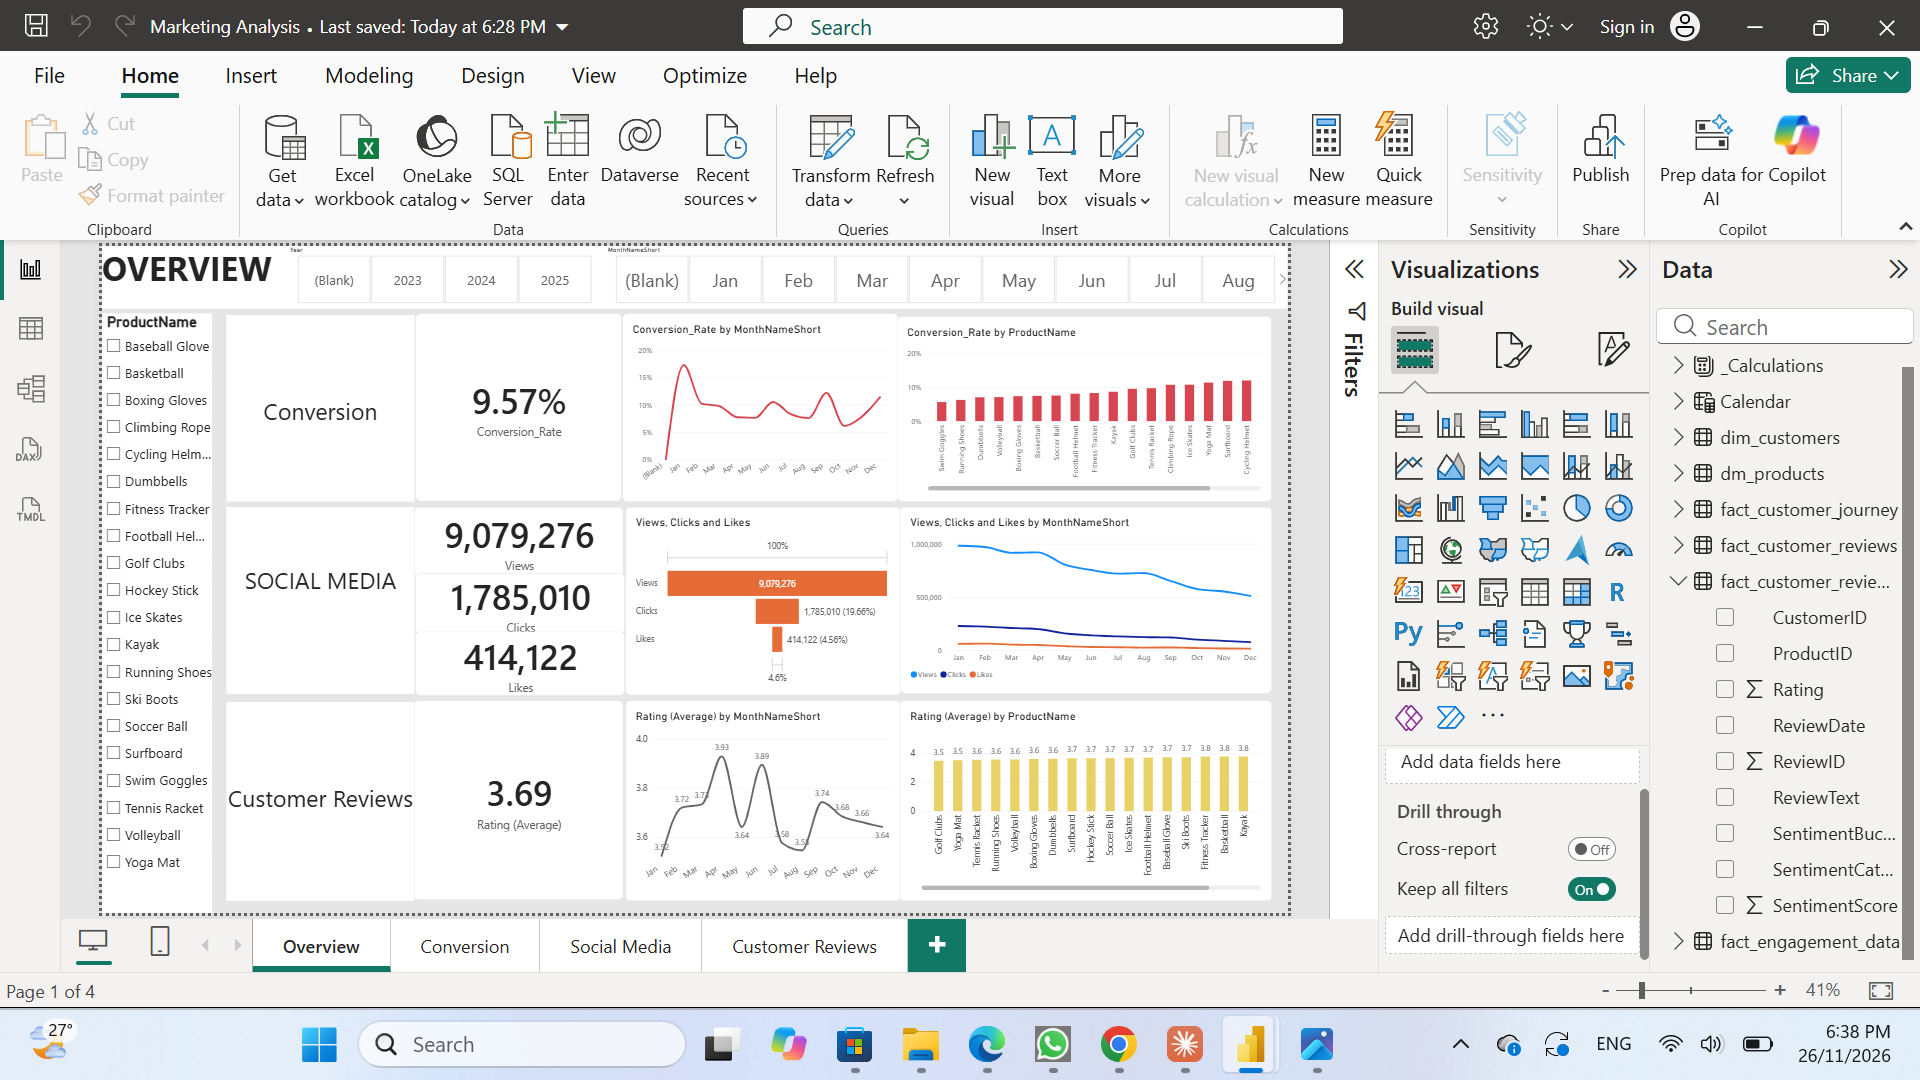

Layout of this report page (visuals, bound fields, positions):
{"tool":"powerbi","page":{"name":"Overview","canvas":[1920,1080],"ordinal":0},"visuals":[{"type":"textbox","box":[0,0,1919.2,101.5],"z":0},{"type":"slicer","fields":{"Values":["dm_products.ProductName"]},"box":[0,109,178.3,970.7],"z":1000},{"type":"textbox","box":[178.3,624,237.7,227.8],"z":2000},{"type":"textbox","box":[200.6,111.4,304.6,302.1],"z":3000},{"type":"textbox","box":[200.6,422.6,304.6,302.9],"z":4000},{"type":"textbox","box":[505.2,109,260,309.5],"z":5000},{"type":"textbox","box":[200.6,738,304.6,321.9],"z":6000},{"type":"cardVisual","fields":{"Data":["_Calculations.Conversion_Rate"]},"box":[507.7,109,334.3,304.6],"z":7000},{"type":"cardVisual","fields":{"Data":["_Calculations.Views"]},"box":[505.2,421.8,339.3,113.1],"z":8000},{"type":"cardVisual","fields":{"Data":["_Calculations.Clicks"]},"box":[507.7,528.3,339.3,99.9],"z":9000},{"type":"cardVisual","fields":{"Data":["_Calculations.LIKES"]},"box":[506.8,624.9,339.3,104.8],"z":10000},{"type":"cardVisual","fields":{"Data":["_Calculations.Rating (Average)"]},"box":[506,735.5,339.3,323.6],"z":11000},{"type":"slicer","fields":{"Values":["Calendar.Year"]},"box":[297.2,0,515.1,94.1],"z":12000},{"type":"slicer","fields":{"Values":["Calendar.MonthNameShort"]},"box":[812.2,0,1106.9,94.1],"z":13000},{"type":"lineChart","fields":{"Category":["Calendar.MonthNameShort"],"Y":["_Calculations.Conversion_Rate"]},"box":[842,109,445.7,304.6],"z":14000},{"type":"columnChart","fields":{"Category":["dm_products.ProductName"],"Y":["_Calculations.Conversion_Rate"]},"box":[1287.7,113.9,606.7,299.6],"z":15000},{"type":"funnel","fields":{"Y":["_Calculations.Views","_Calculations.Clicks","_Calculations.LIKES"]},"box":[846.9,423.5,445.7,304.6],"z":16000},{"type":"lineChart","fields":{"Category":["Calendar.MonthNameShort"],"Y":["_Calculations.Views","_Calculations.Clicks","_Calculations.LIKES"]},"box":[1292.7,423.5,601.8,302.1],"z":17000},{"type":"lineChart","fields":{"Category":["Calendar.MonthNameShort"],"Y":["_Calculations.Rating (Average)"]},"box":[846.9,735.5,445.7,324.4],"z":18000},{"type":"columnChart","fields":{"Category":["dm_products.ProductName"],"Y":["_Calculations.Rating (Average)"]},"box":[1292.7,735.5,601.8,324.4],"z":19000}]}

Visuals, with their boxes on the page's 1920x1080 design canvas (x1, y1, x2, y2). These are canvas units, not pixel positions in the 1920x1080 screenshot, which may show the page scaled, cropped or inside an application window:
textbox: bbox=(0, 0, 1919, 102)
slicer - dm_products.ProductName: bbox=(0, 109, 178, 1080)
textbox: bbox=(178, 624, 416, 852)
textbox: bbox=(201, 111, 505, 414)
textbox: bbox=(201, 423, 505, 726)
textbox: bbox=(505, 109, 765, 418)
textbox: bbox=(201, 738, 505, 1060)
cardVisual - _Calculations.Conversion_Rate: bbox=(508, 109, 842, 414)
cardVisual - _Calculations.Views: bbox=(505, 422, 844, 535)
cardVisual - _Calculations.Clicks: bbox=(508, 528, 847, 628)
cardVisual - _Calculations.LIKES: bbox=(507, 625, 846, 730)
cardVisual - _Calculations.Rating (Average): bbox=(506, 736, 845, 1059)
slicer - Calendar.Year: bbox=(297, 0, 812, 94)
slicer - Calendar.MonthNameShort: bbox=(812, 0, 1919, 94)
lineChart - Calendar.MonthNameShort x _Calculations.Conversion_Rate: bbox=(842, 109, 1288, 414)
columnChart - dm_products.ProductName x _Calculations.Conversion_Rate: bbox=(1288, 114, 1894, 414)
funnel - _Calculations.Views x _Calculations.Clicks: bbox=(847, 424, 1293, 728)
lineChart - Calendar.MonthNameShort x _Calculations.Views: bbox=(1293, 424, 1894, 726)
lineChart - Calendar.MonthNameShort x _Calculations.Rating (Average): bbox=(847, 736, 1293, 1060)
columnChart - dm_products.ProductName x _Calculations.Rating (Average): bbox=(1293, 736, 1894, 1060)
